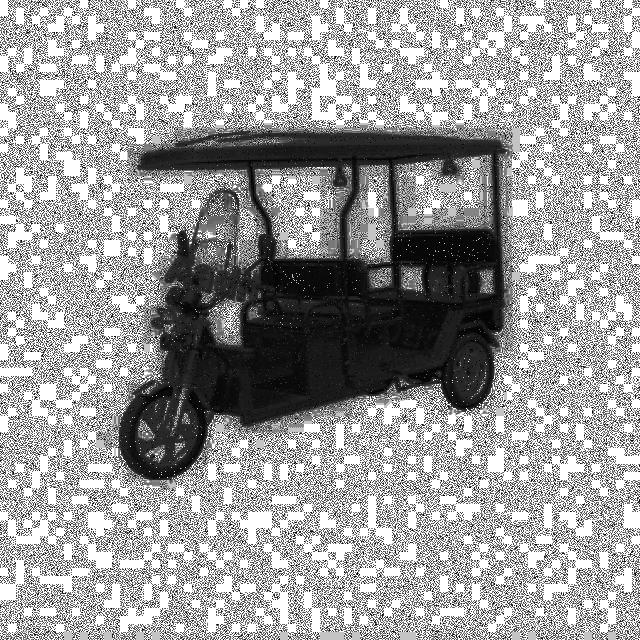Toto: (118, 108, 517, 474)
